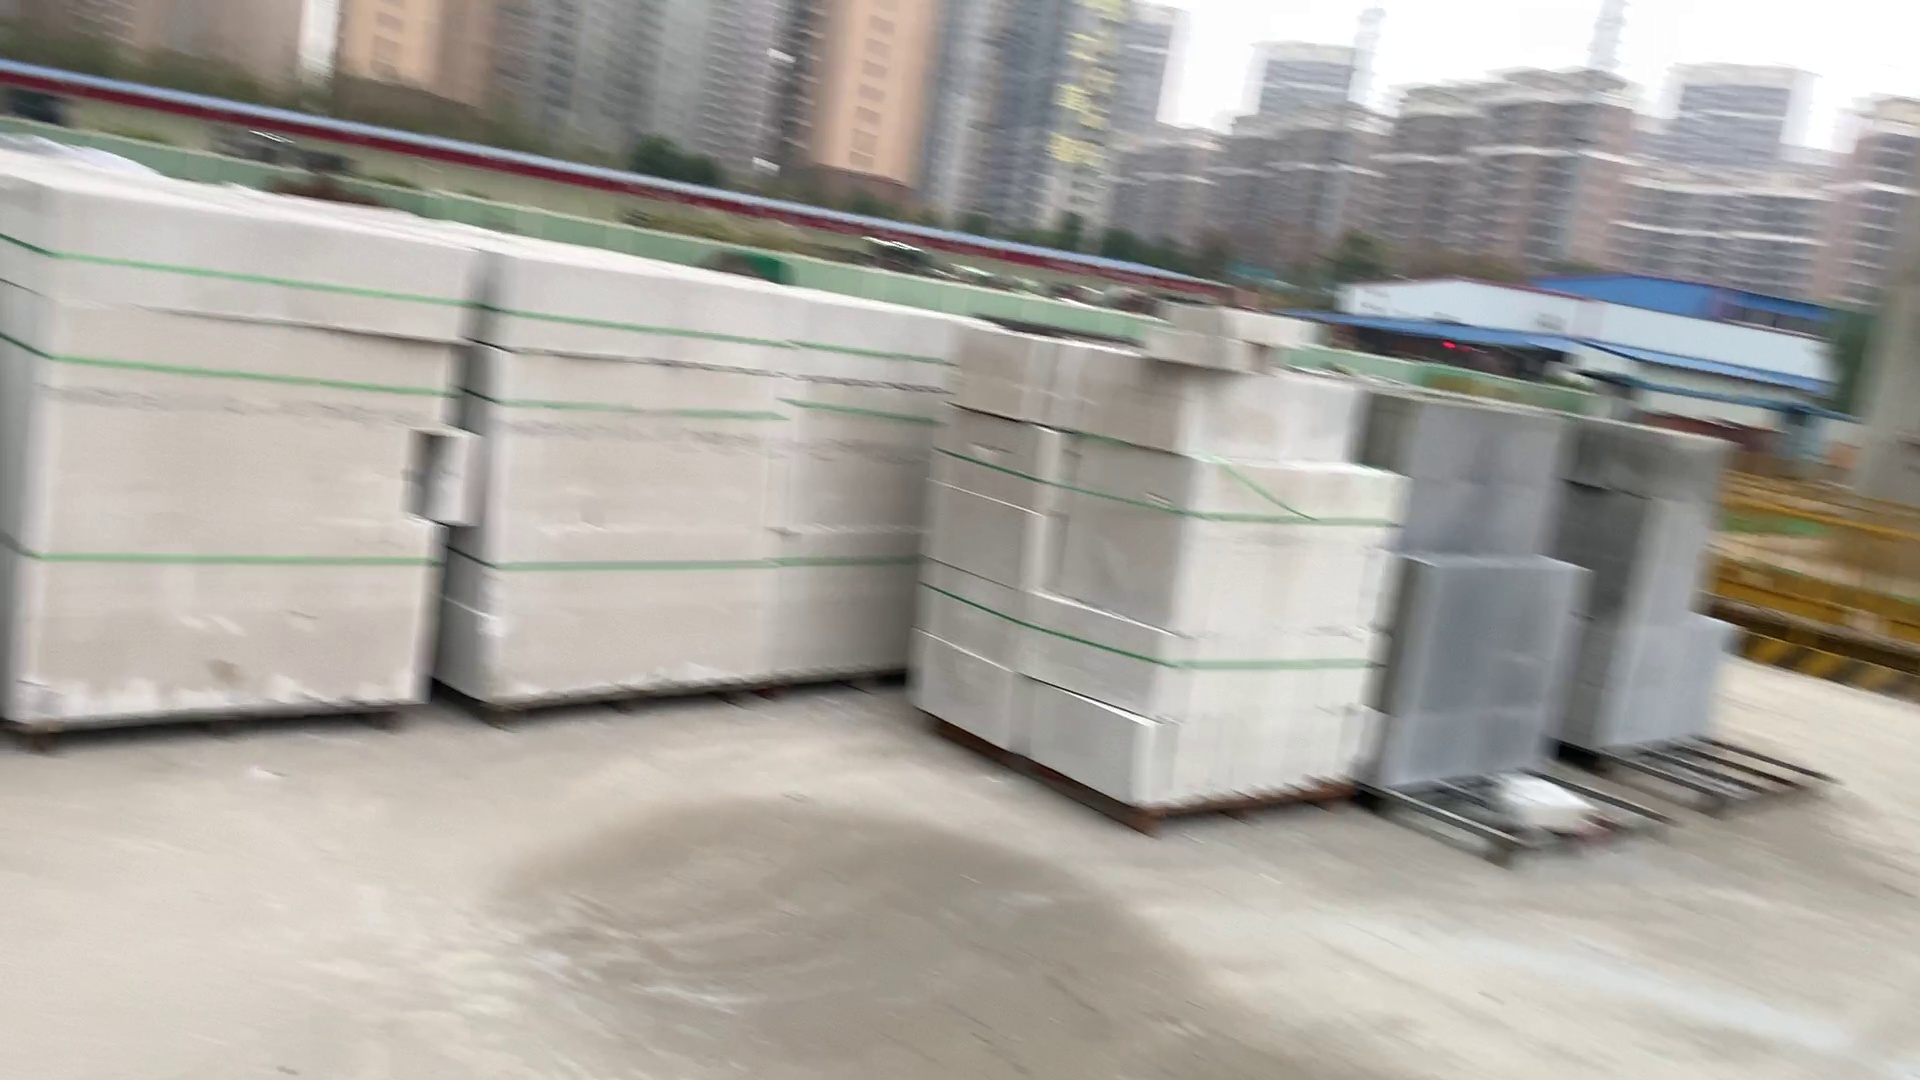brickwork: (467, 233, 1009, 756), (7, 157, 447, 741), (949, 327, 1389, 820), (1356, 365, 1596, 800), (1565, 401, 1751, 773)
